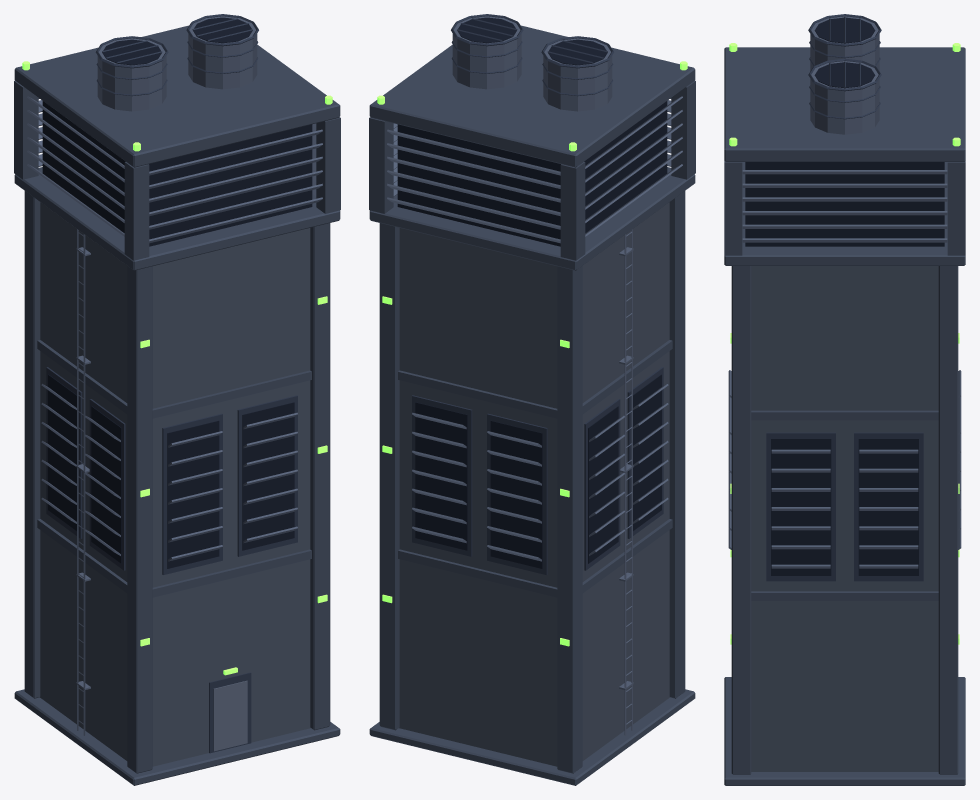
File: hw_vent_tower.glb
3 renders of one model, left to right at view 1: azimuth 30°, elevation 25°; view 2: azimuth 150°, elevation 25°; view 3: azimuth 270°, elevation 25°, orthographic.
Parts seen in each view (by area): view 1: shaft, structure, recess, louvres, trim, door, green_lamp; view 2: shaft, structure, recess, louvres, trim, green_lamp; view 3: shaft, structure, recess, louvres, trim, green_lamp.
Part boxes in pixels (left/top/right/bottom): shaft: left=40, top=202, right=310, bottom=766; structure: left=14, top=25, right=340, bottom=785; recess: left=42, top=17, right=312, bottom=568; louvres: left=27, top=16, right=322, bottom=735; trim: left=46, top=14, right=297, bottom=753; door: left=213, top=680, right=247, bottom=751; green_lamp: left=22, top=61, right=332, bottom=675; shaft: left=399, top=202, right=669, bottom=766; structure: left=369, top=25, right=695, bottom=785; recess: left=397, top=17, right=667, bottom=568; louvres: left=387, top=16, right=682, bottom=735; trim: left=412, top=14, right=663, bottom=574; green_lamp: left=377, top=61, right=687, bottom=646; shaft: left=751, top=266, right=938, bottom=771; structure: left=724, top=47, right=965, bottom=785; recess: left=745, top=17, right=944, bottom=575; louvres: left=728, top=16, right=961, bottom=568; trim: left=766, top=14, right=923, bottom=581; green_lamp: left=729, top=43, right=960, bottom=644.
Size of the model in its own units: 8 by 25 by 8.
